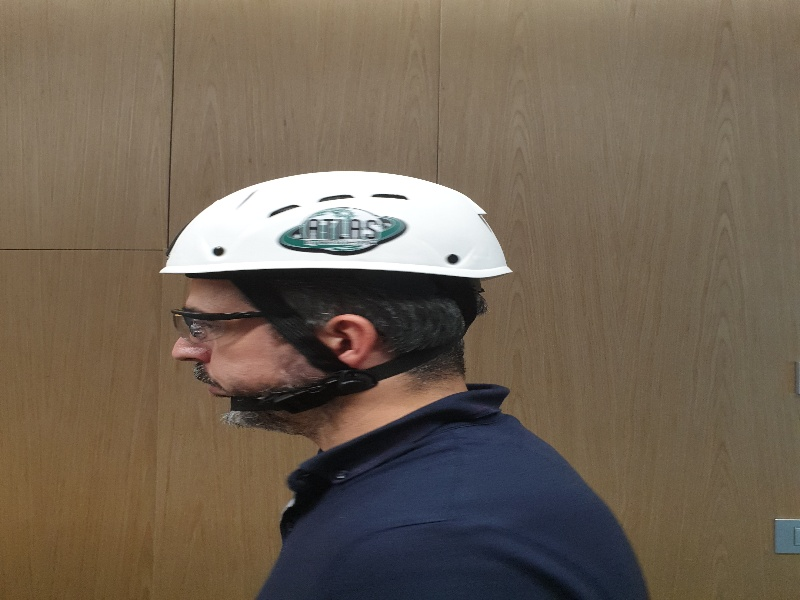Baret: (158, 170, 510, 279)
